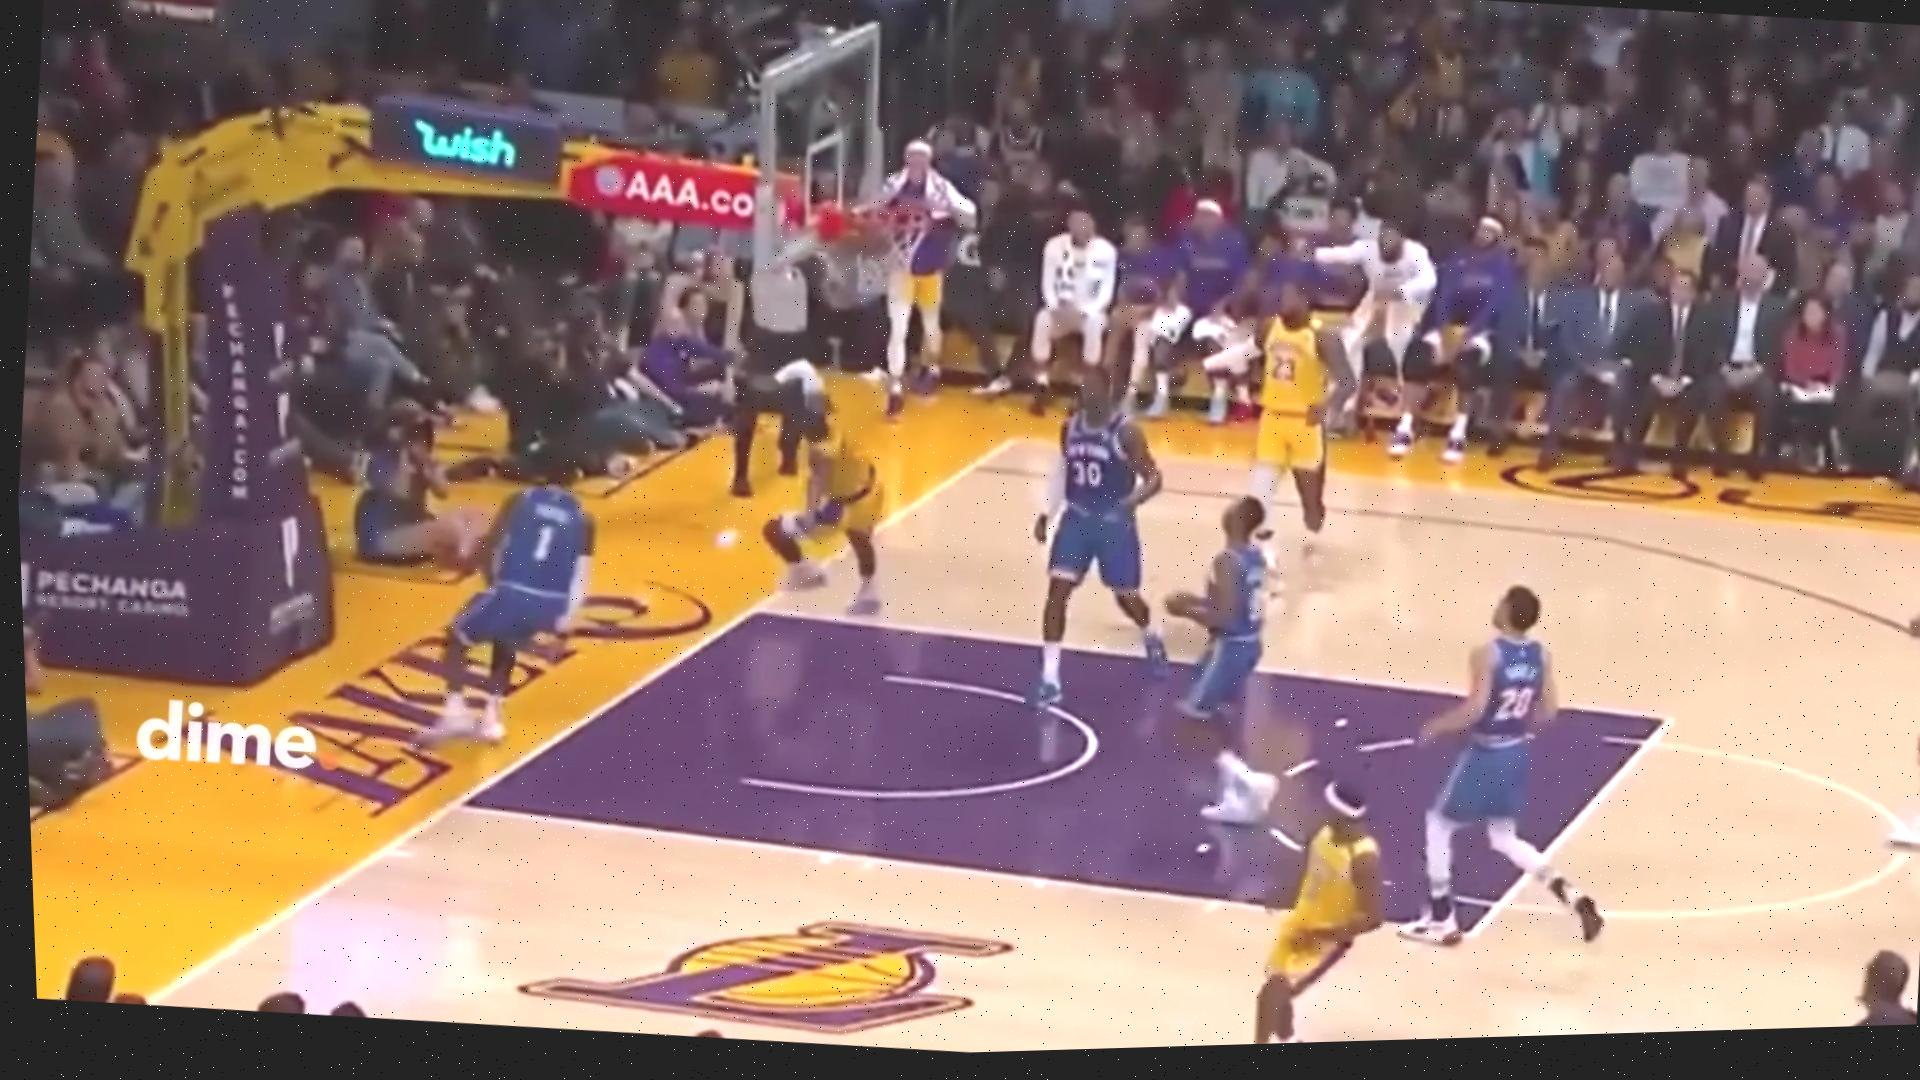no_foul: (1213, 560, 1646, 1044)
